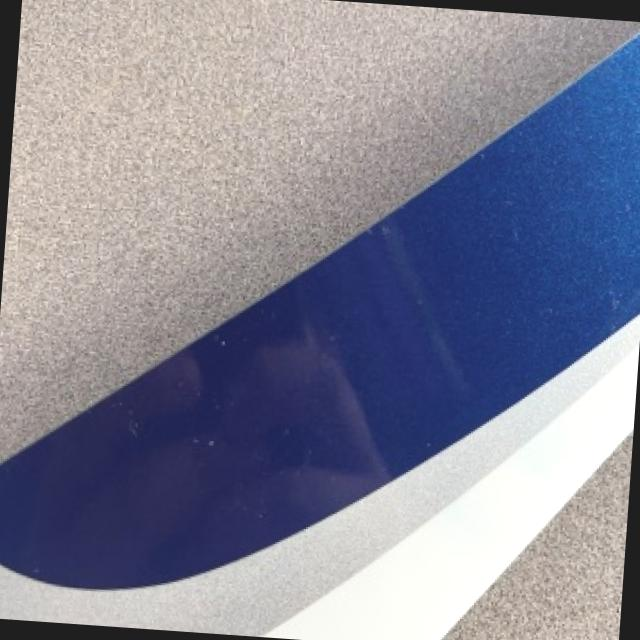healthy: (0, 0, 640, 455)
